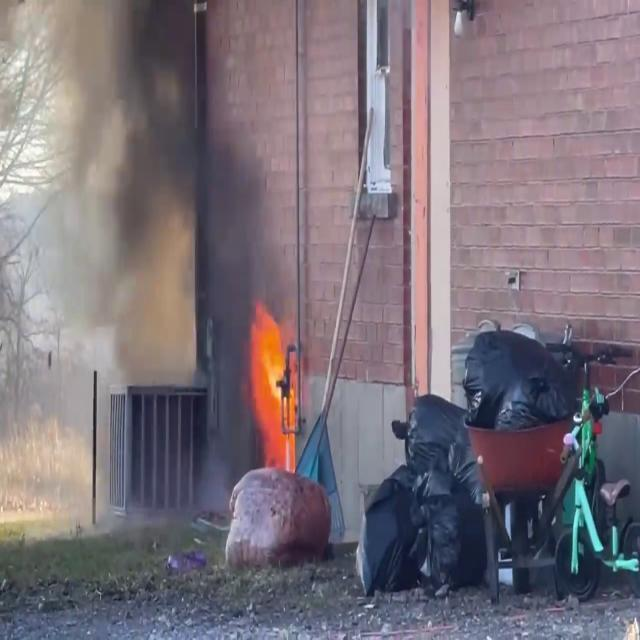Fire: (247, 290, 300, 468)
Smoke: (51, 1, 282, 400)
